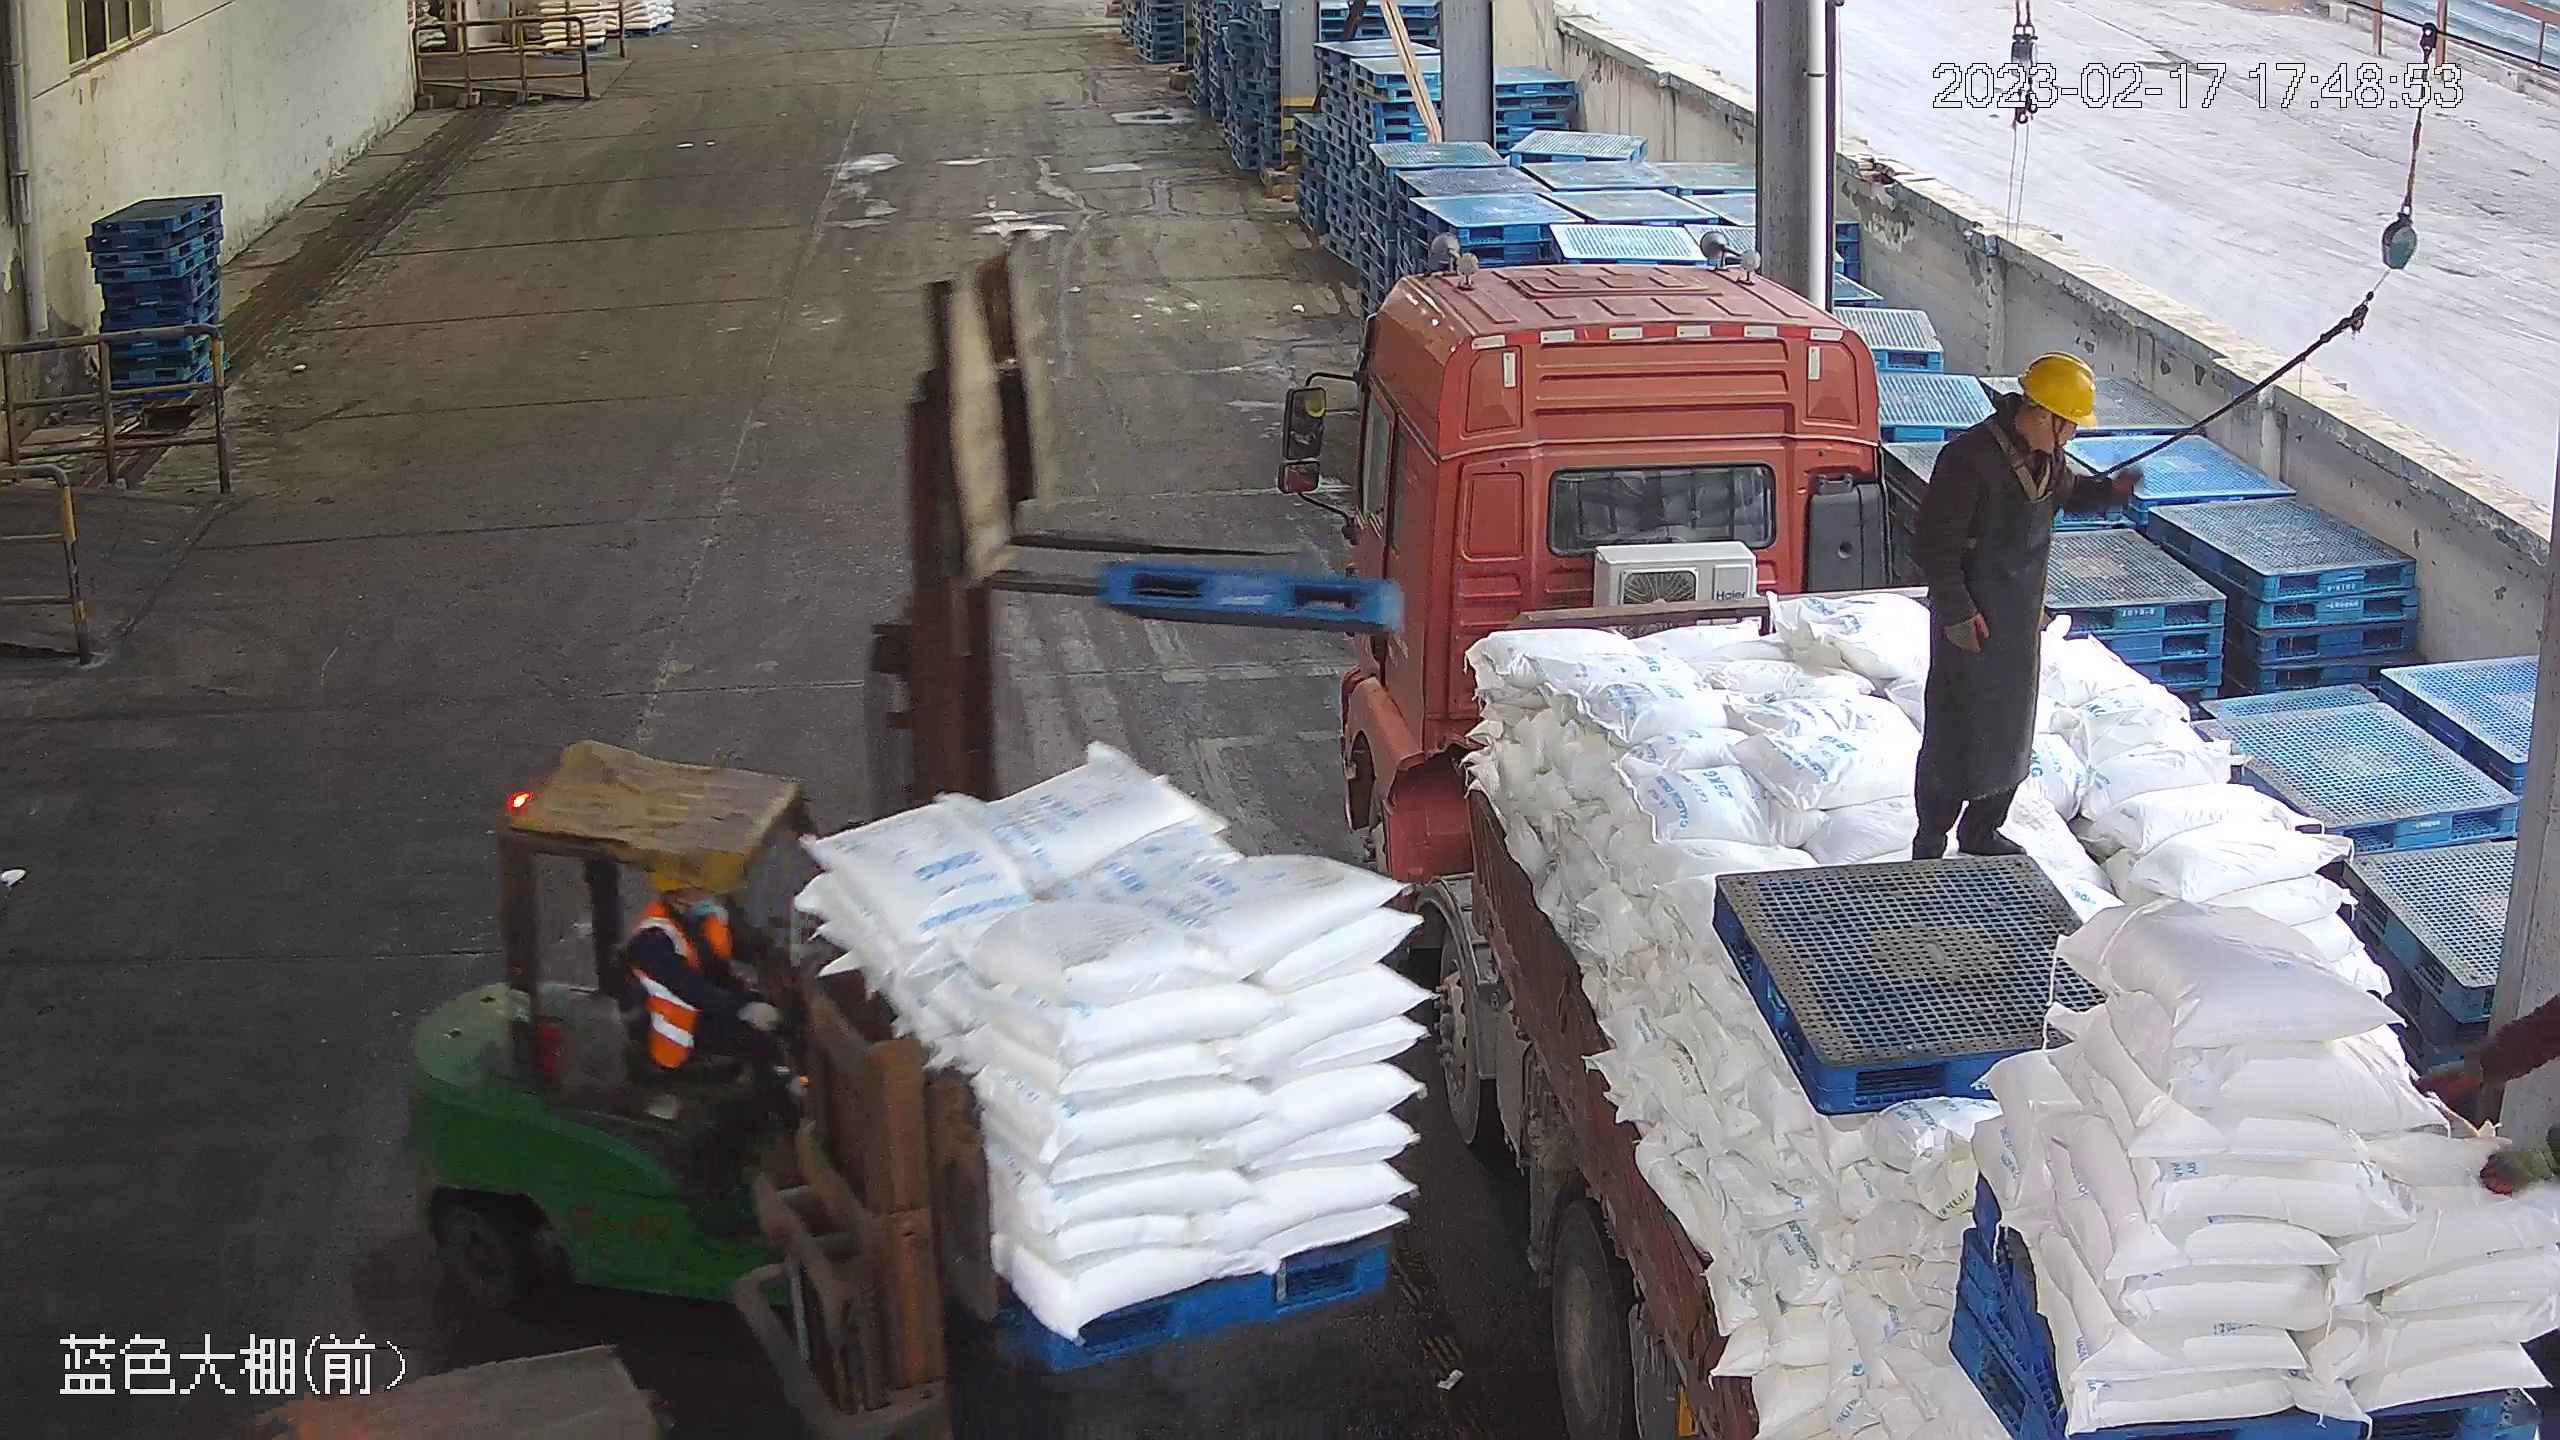belt: (1960, 425, 2067, 516)
head: (1943, 350, 2102, 525)
helmet: (2016, 349, 2098, 427)
people: (1902, 348, 2149, 859)
truck: (1278, 243, 2558, 1440)
